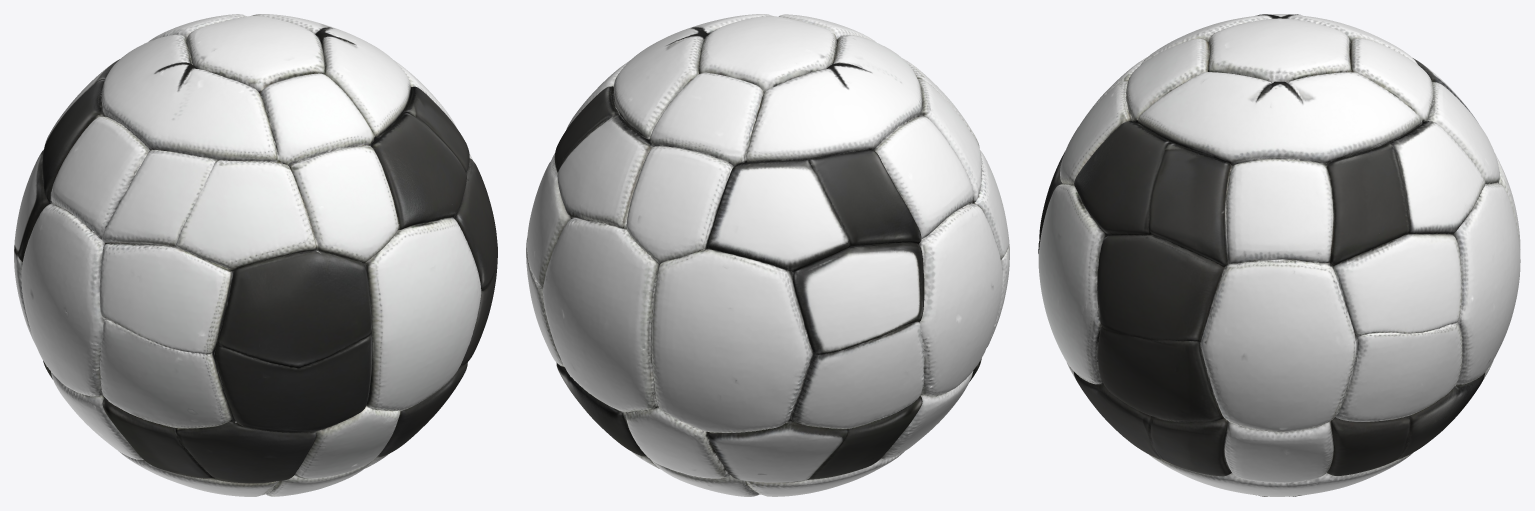
The model's file is Meshy_AI_Soccer_Ball_FIFA_st_0323202119_texture.glb.
3 renders of one model, left to right at view 1: azimuth 30°, elevation 25°; view 2: azimuth 150°, elevation 25°; view 3: azimuth 270°, elevation 25°, orthographic.
Size of the model in its own units: 2 by 2 by 2.
Materials: 1 (1 with a texture image).
